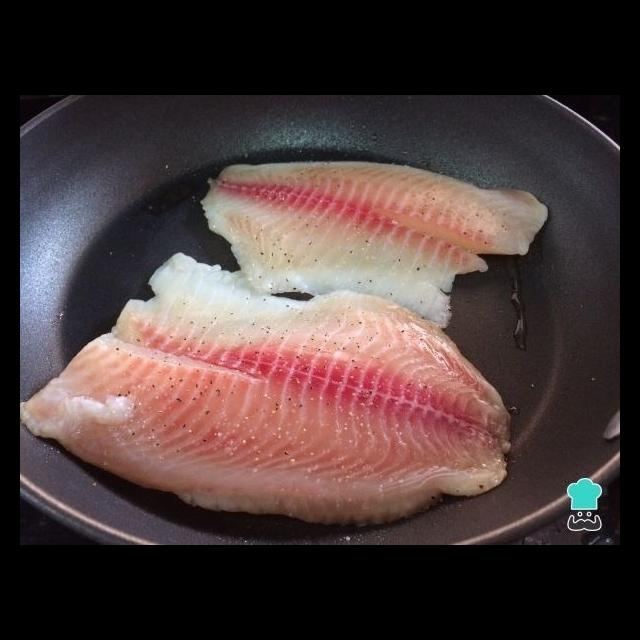fish: (20, 243, 528, 536)
